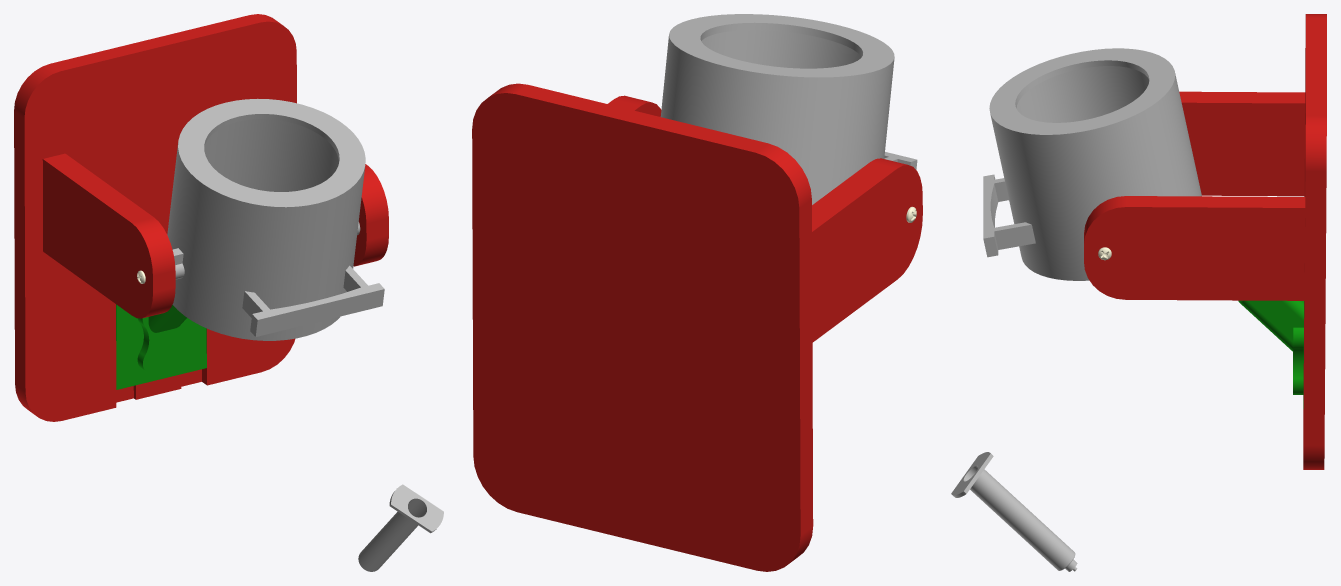
The model's file is syringe-pouring-fixture.glb.
3 renders of one model, left to right at view 1: azimuth 30°, elevation 25°; view 2: azimuth 150°, elevation 25°; view 3: azimuth 270°, elevation 25°, orthographic. The views are drawn at different scales.
Bounding box in the file's own units: 0.1905 × 0.3064 × 0.2268.
